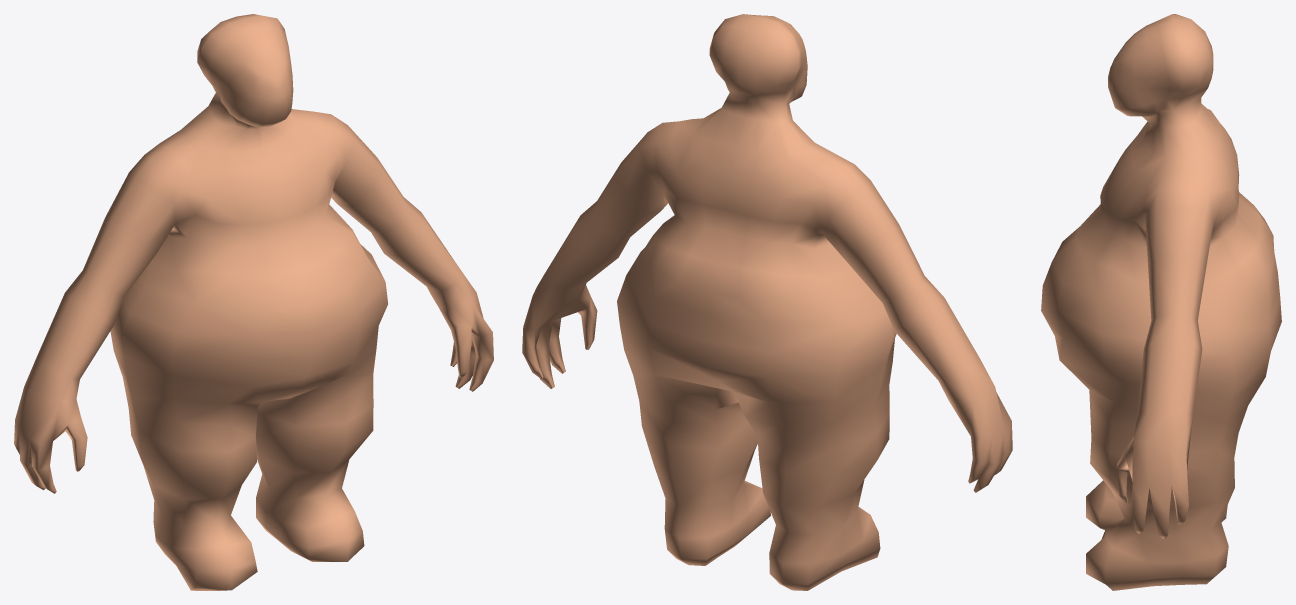
The model's file is monster_1.fbx.
3 renders of one model, left to right at view 1: azimuth 30°, elevation 25°; view 2: azimuth 150°, elevation 25°; view 3: azimuth 270°, elevation 25°, orthographic. The views are drawn at different scales.
Visible parts, largest first — view 1: Alien_HorrorStyle; view 2: Alien_HorrorStyle; view 3: Alien_HorrorStyle.
Part boxes in pixels (left/top/right/bottom): Alien_HorrorStyle: left=14, top=14, right=493, bottom=590; Alien_HorrorStyle: left=522, top=14, right=1012, bottom=590; Alien_HorrorStyle: left=1041, top=14, right=1281, bottom=590.
Bounding box in the file's own units: 14.79 × 16.59 × 6.78.
